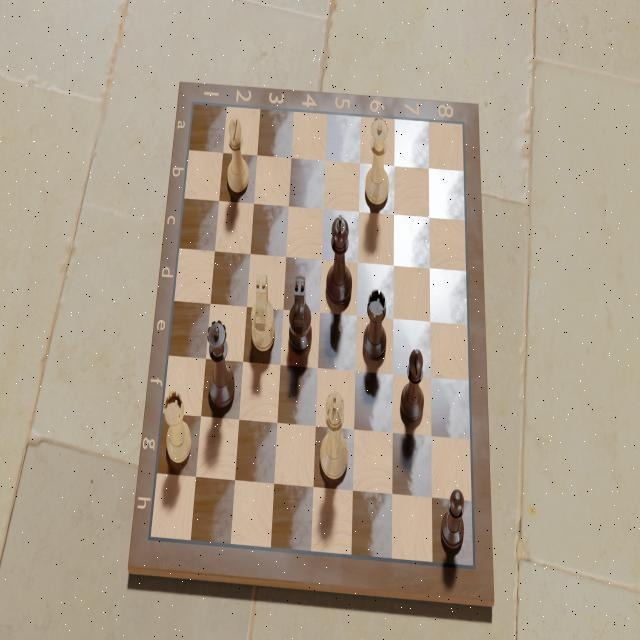black-bishop: (398, 347, 425, 429)
black-king: (323, 212, 352, 308)
black-knight: (287, 274, 314, 355)
black-pawn: (440, 487, 468, 557)
black-queen: (207, 320, 236, 411)
black-rook: (361, 288, 390, 364)
white-bishop: (224, 118, 251, 198)
white-king: (317, 390, 350, 482)
white-knight: (250, 272, 278, 354)
white-queen: (364, 116, 390, 212)
white-rook: (162, 390, 194, 465)
